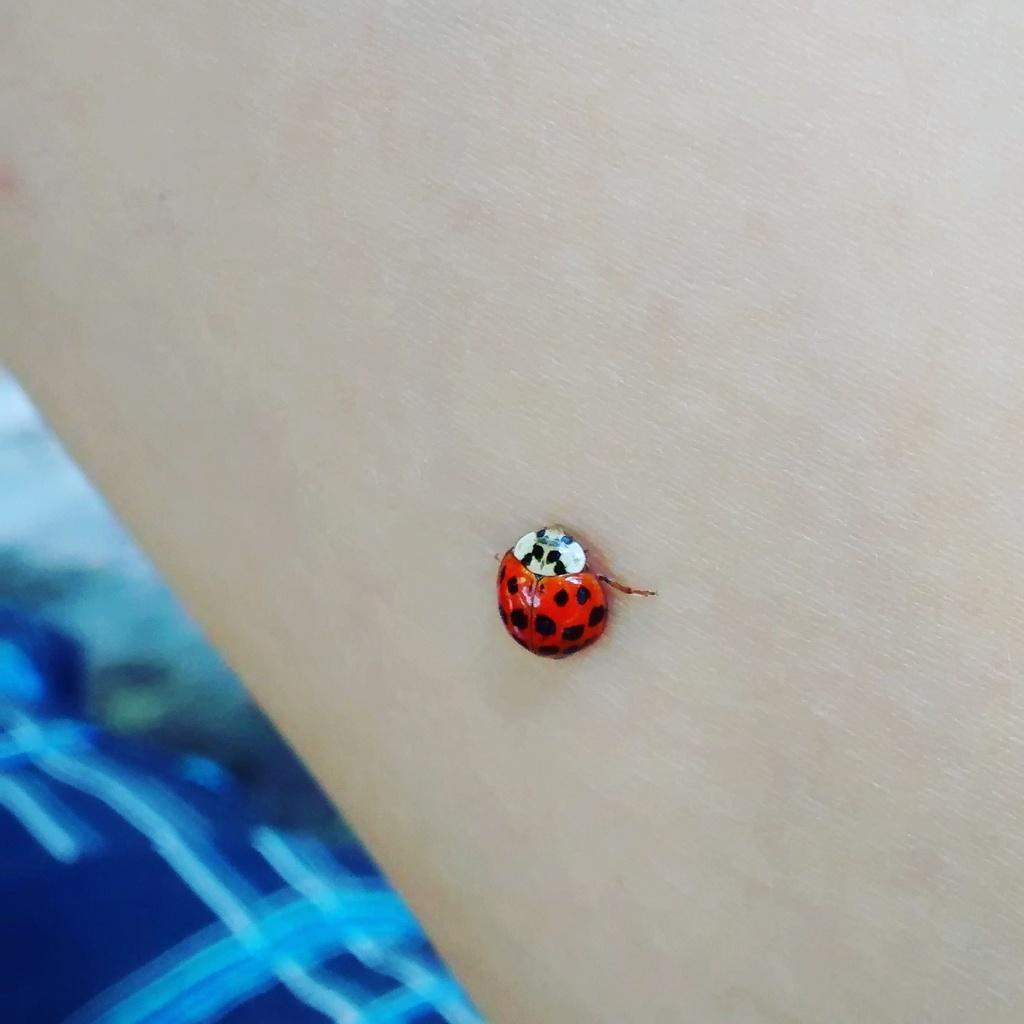ladybug: (494, 524, 661, 661)
